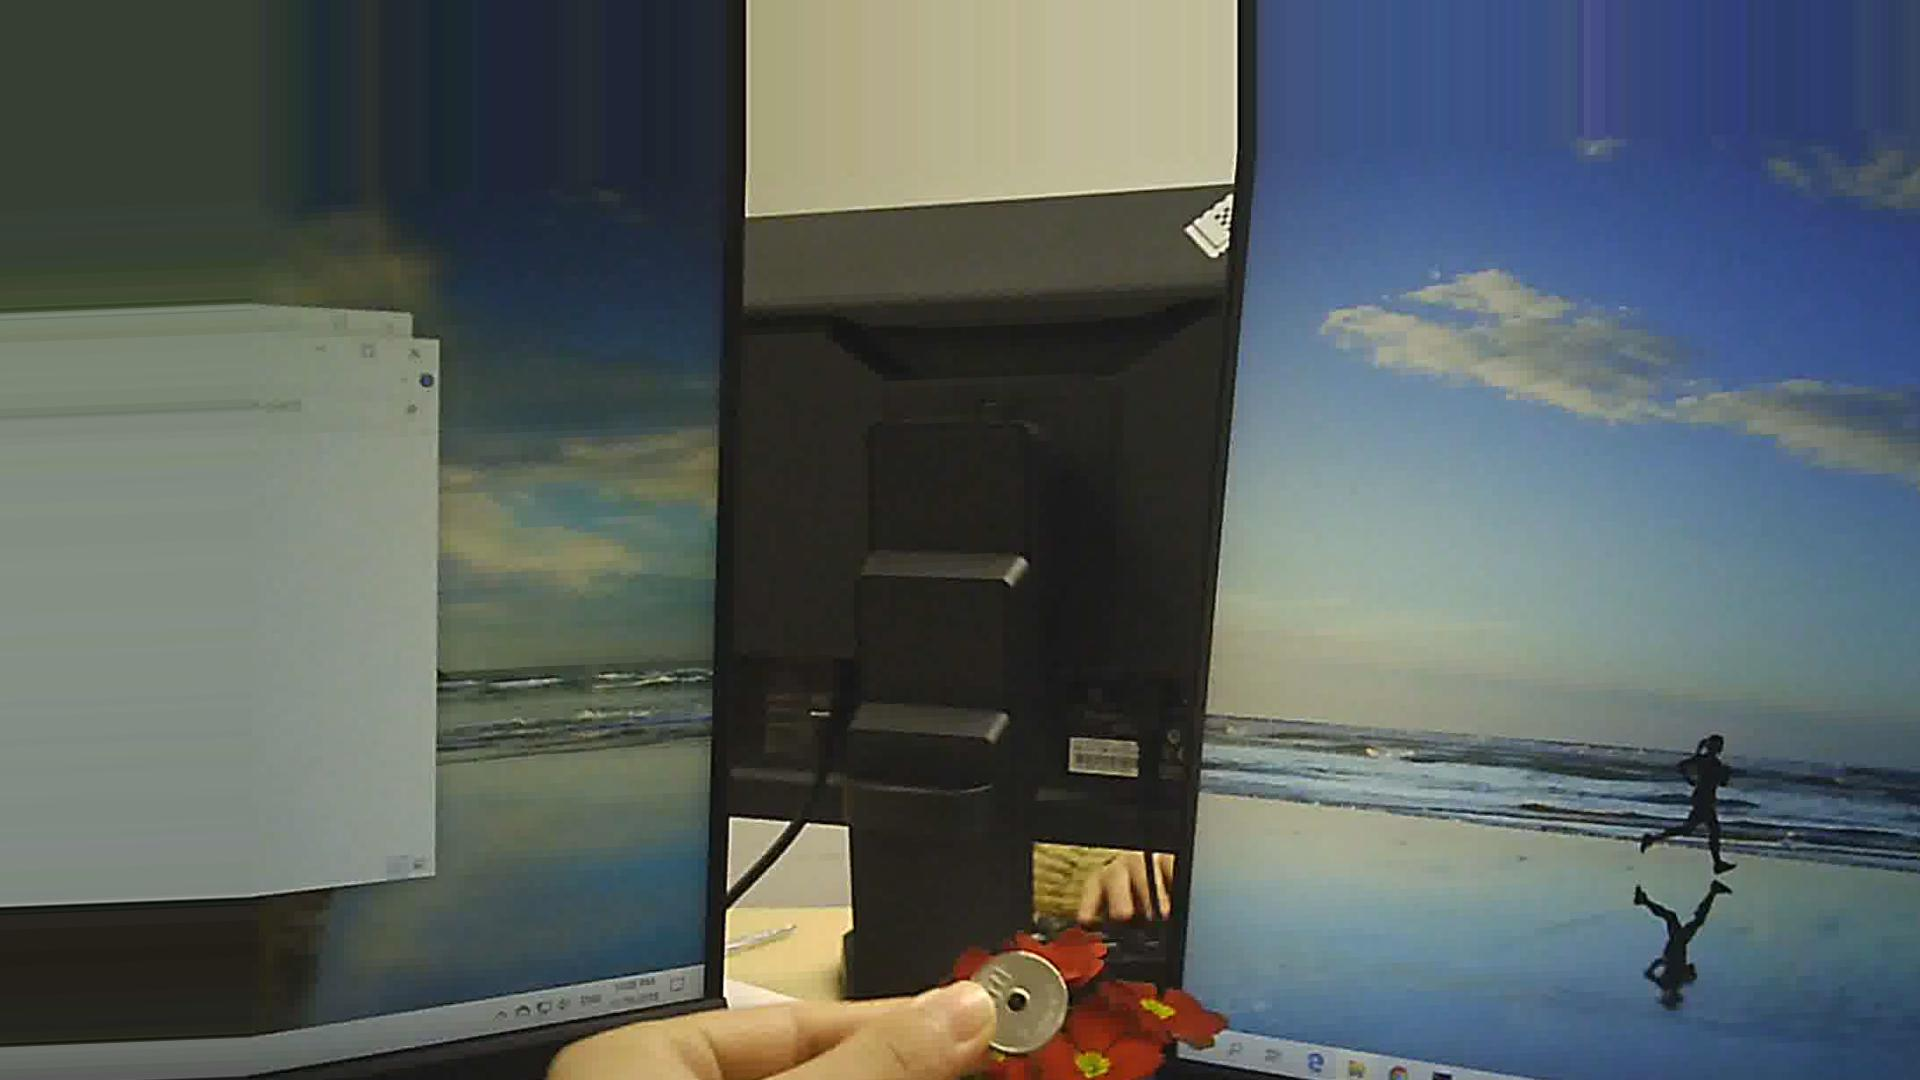50 Yen: (963, 945, 1083, 1047)
